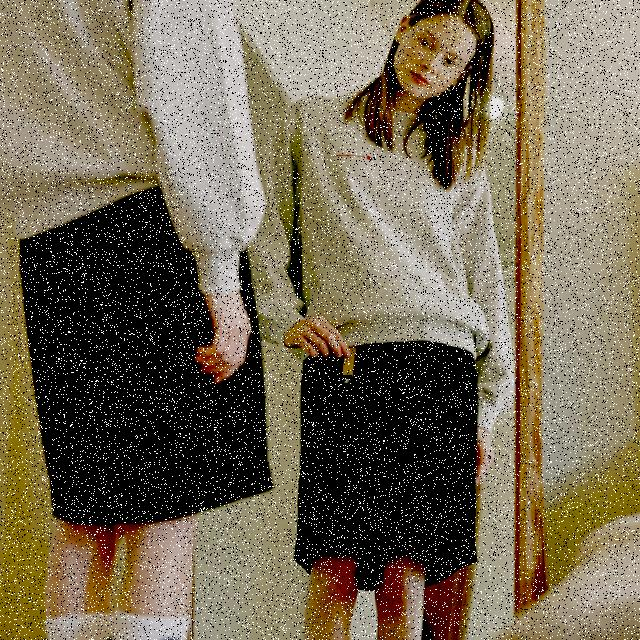dress: (10, 171, 290, 564), (298, 318, 490, 607)
